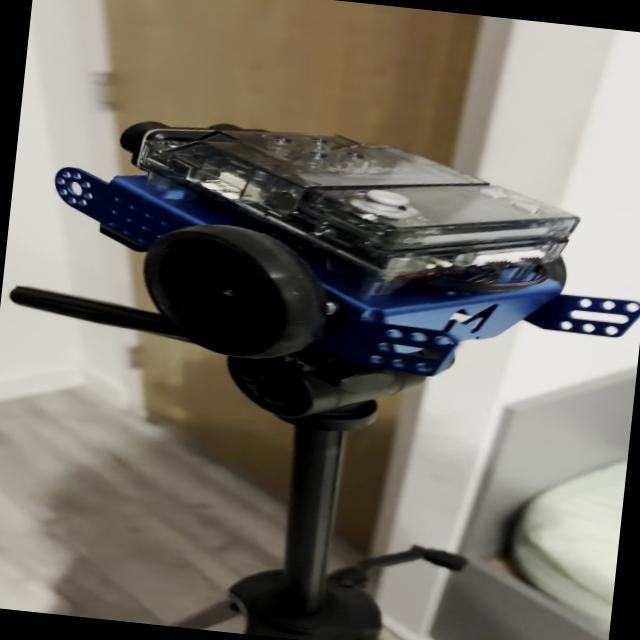mbot-detection: (24, 92, 640, 408)
